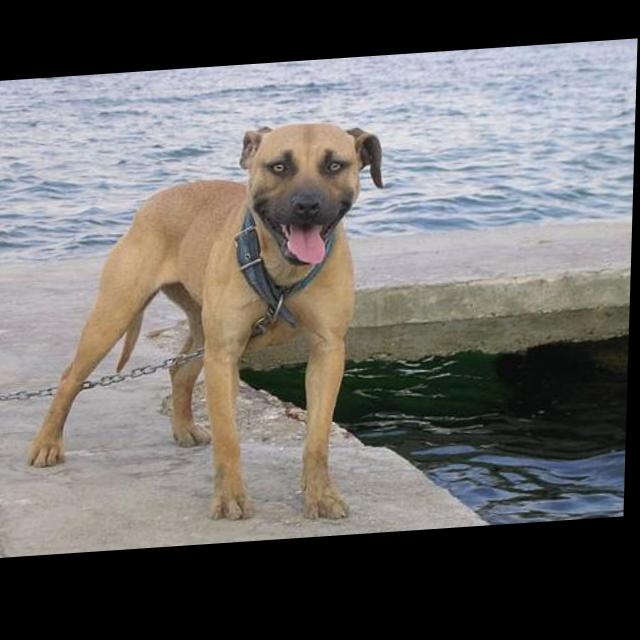amstaff: (27, 123, 387, 543)
